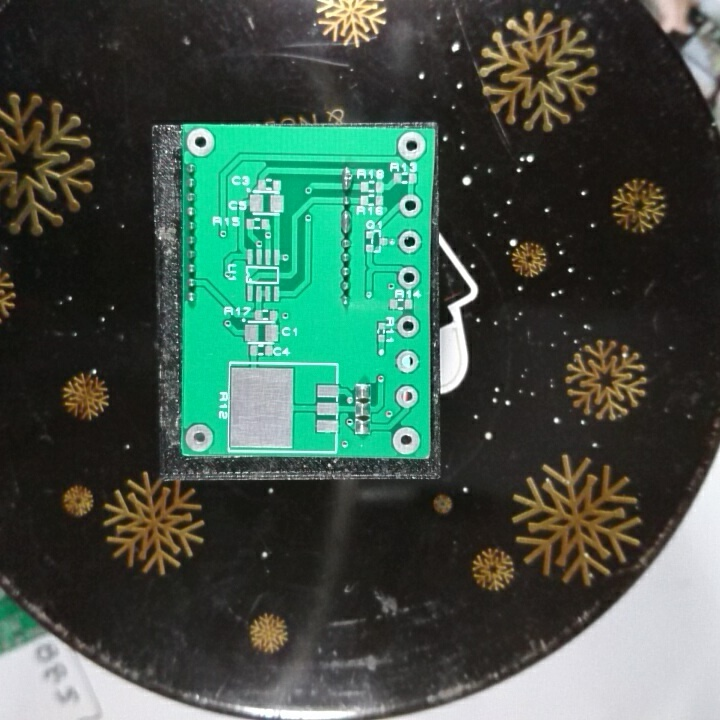F: (184, 126, 219, 158), (395, 131, 428, 163), (391, 424, 422, 457), (185, 422, 215, 452), (396, 228, 424, 256), (394, 349, 422, 376), (394, 383, 420, 410), (397, 264, 422, 292), (394, 313, 422, 338), (399, 192, 424, 218)
P: (339, 209, 355, 236), (340, 166, 356, 192)
